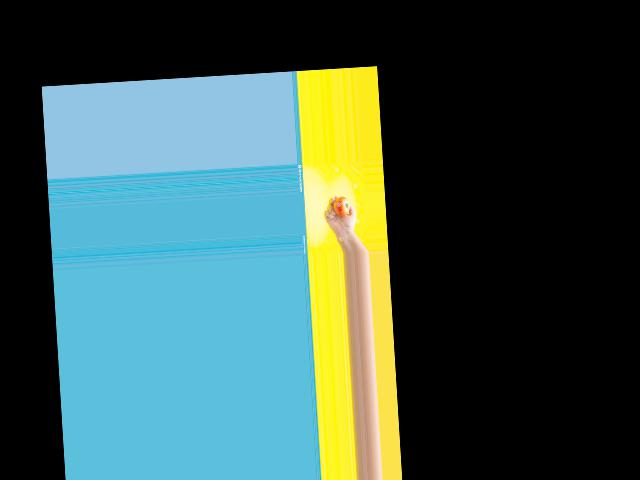tomato: (332, 196, 349, 216)
